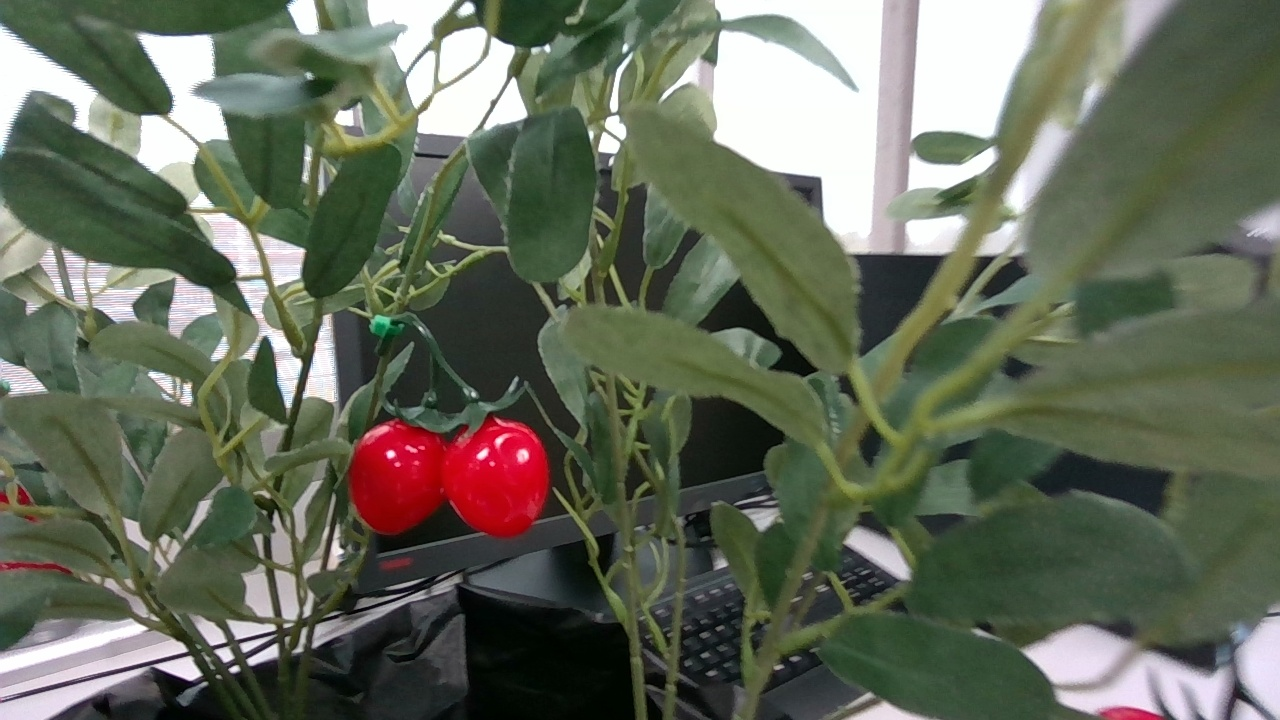peduncle: (401, 312, 439, 352)
strawberry: (442, 415, 549, 537), (348, 419, 445, 534)
